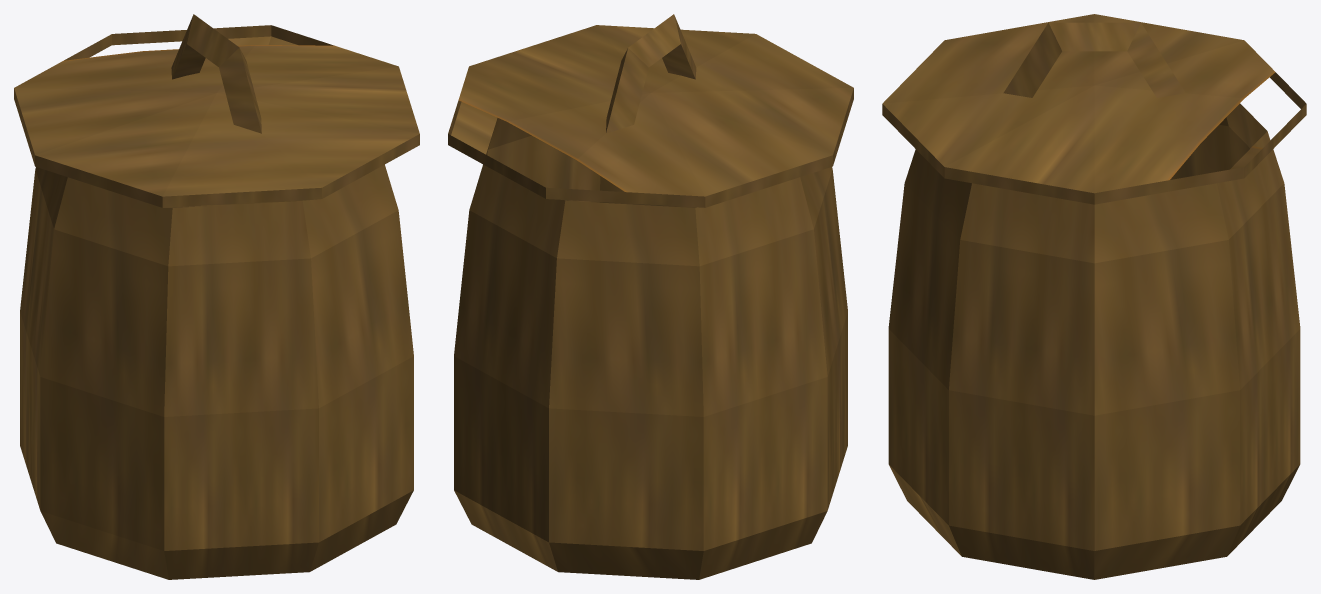
The model's file is CrucibleModel.obj.
The picture shows the model from 3 angles, left to right: view 1: azimuth 30°, elevation 25°; view 2: azimuth 150°, elevation 25°; view 3: azimuth 270°, elevation 25°; orthographic projection.
Visible parts, largest first — view 1: Cylinder; view 2: Cylinder; view 3: Cylinder.
Boxes of the visible parts, x1=… form: Cylinder: x1=14, y1=14, x2=419, y2=579; Cylinder: x1=448, y1=14, x2=853, y2=579; Cylinder: x1=882, y1=14, x2=1306, y2=579.
Bounding box in the file's own units: 2.06 × 2.56 × 2.06.
